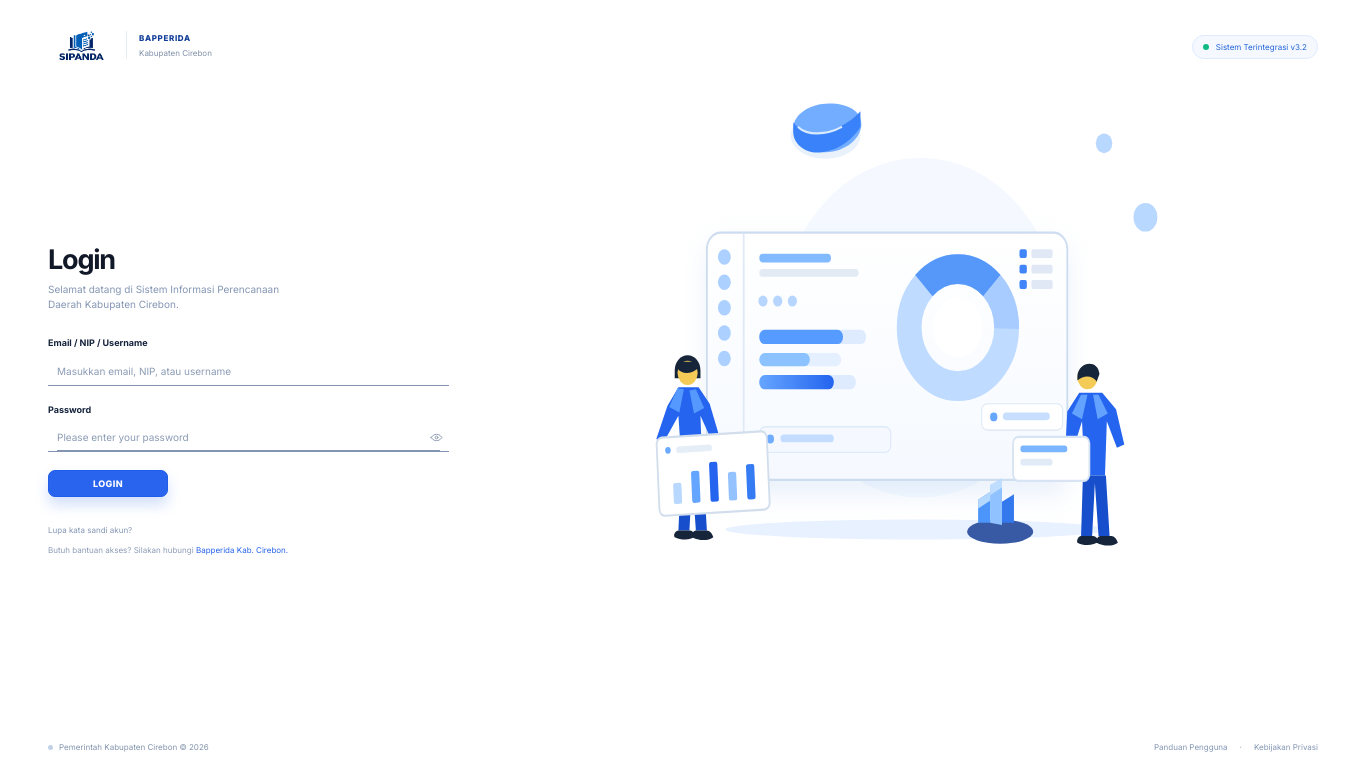
Test: LoginView › menampilkan pesan API saat kredensial ditolak
The width and height of the screenshot is (1366, 768).
Type "pengguna-tidak-ada" into the field labelled "Email / NIP / Username" at (248,371), box [48,356,449,386]
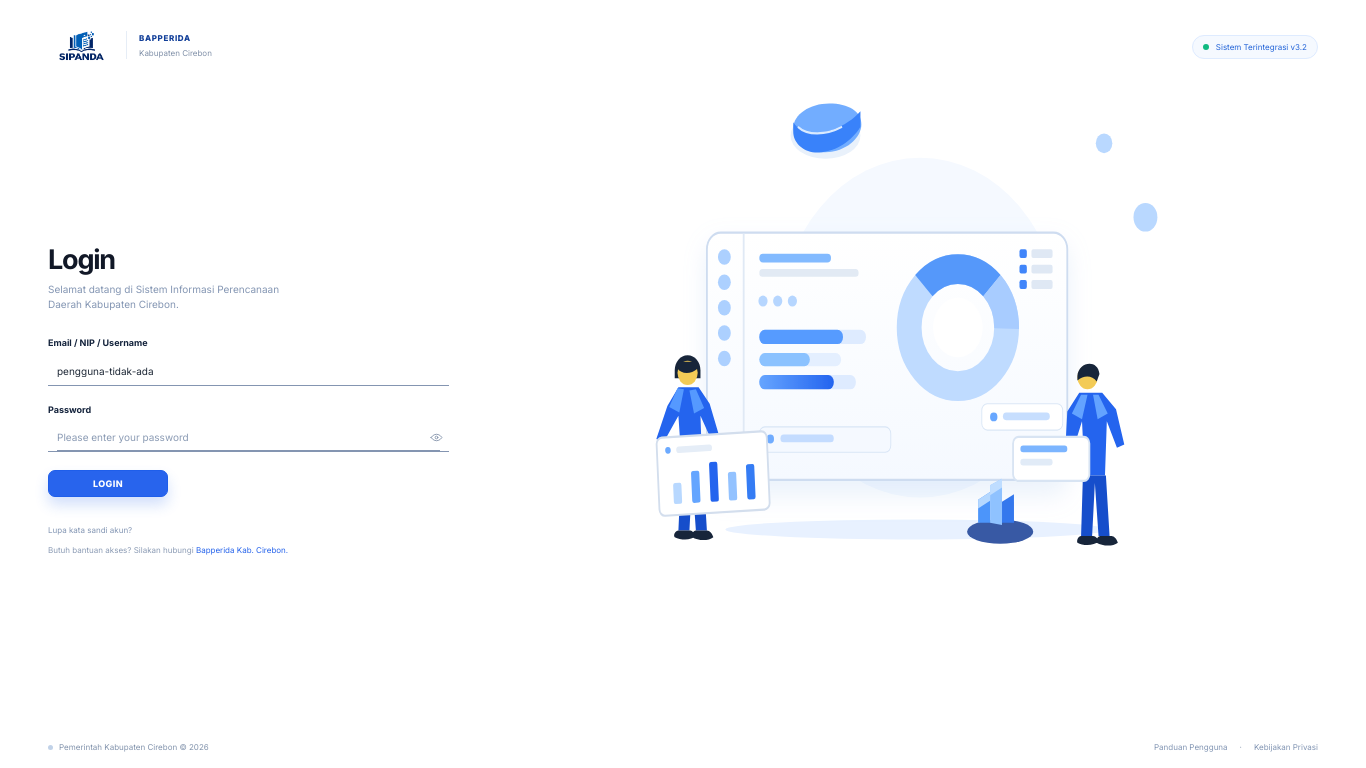
Type "sandi-salah" into the password field labelled "Password" at (248,437), box [57,423,440,451]
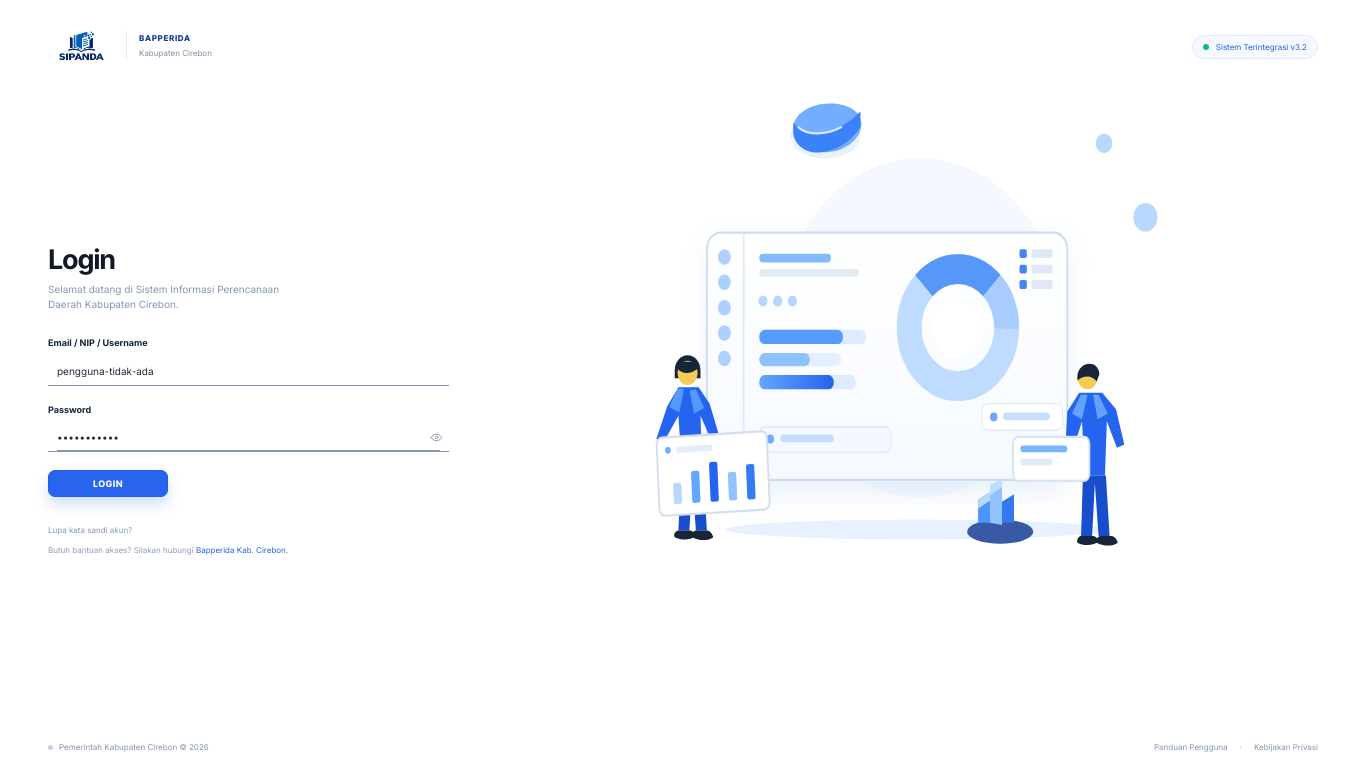
Submit the form, box [48,336,449,497]
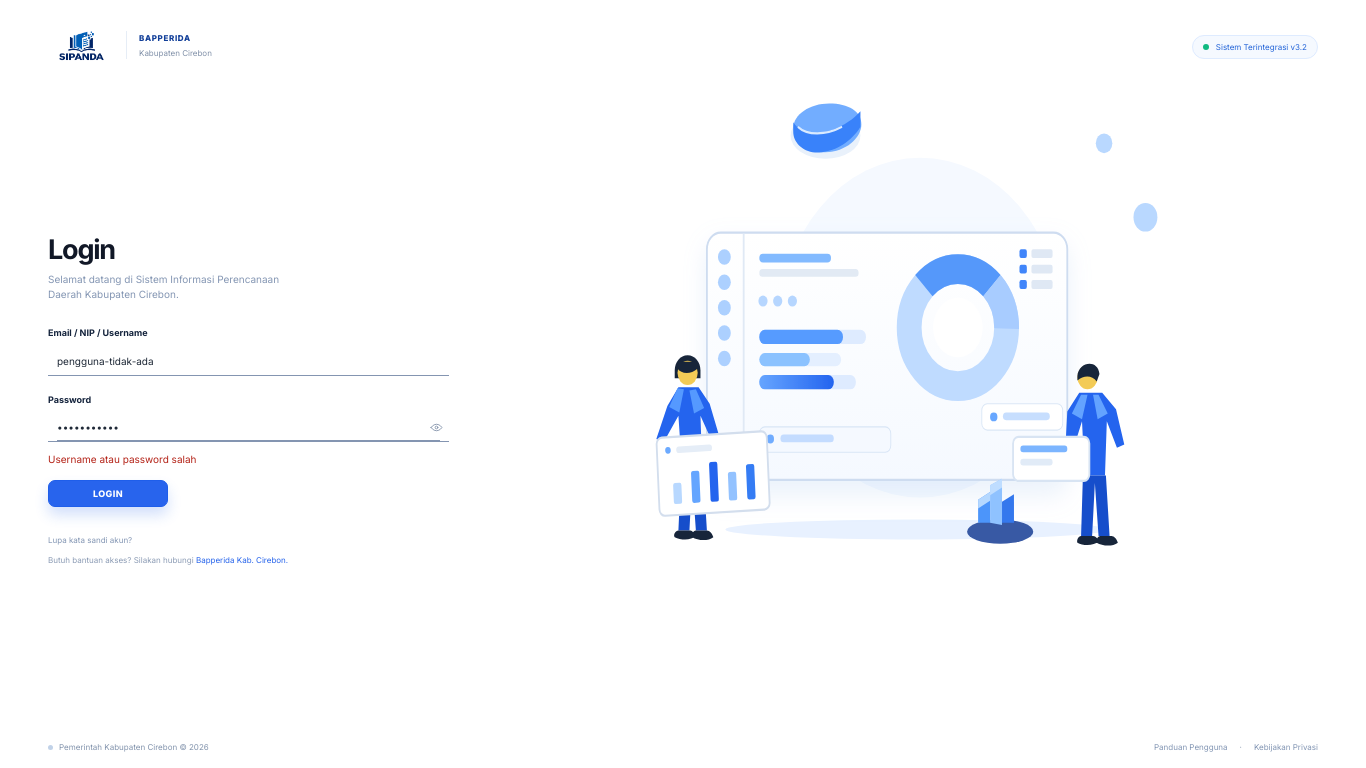
Now the message "Username atau password salah" is shown, box [48,453,196,465]
